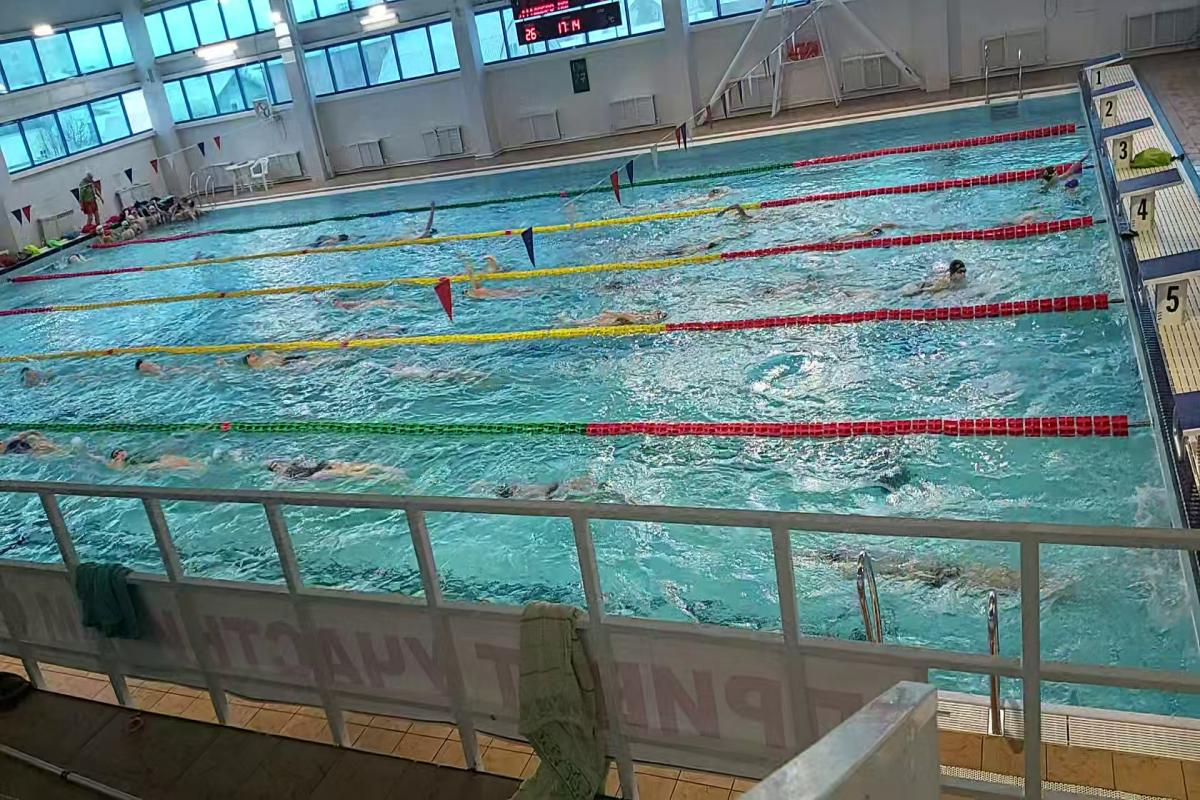swimmer: (809, 537, 1020, 598), (260, 444, 416, 483), (481, 464, 621, 500), (98, 437, 229, 474), (897, 255, 981, 297), (214, 350, 352, 372), (572, 301, 671, 322), (4, 430, 79, 457), (127, 354, 192, 382), (320, 291, 406, 312), (10, 362, 75, 388), (820, 218, 902, 236), (461, 281, 541, 299), (654, 235, 738, 251), (413, 212, 444, 236), (306, 229, 357, 243)
